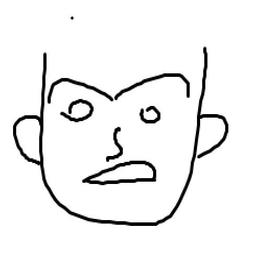ear: (193, 112, 235, 169), (8, 112, 41, 166)
empty_eye: (58, 96, 95, 130), (136, 101, 165, 130)
eyebrow: (115, 68, 198, 100), (47, 70, 113, 102)
nose: (103, 120, 124, 160)
open_mouth: (76, 160, 159, 187)
